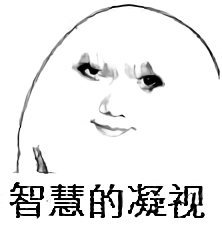dragon: (71, 49, 169, 143)
